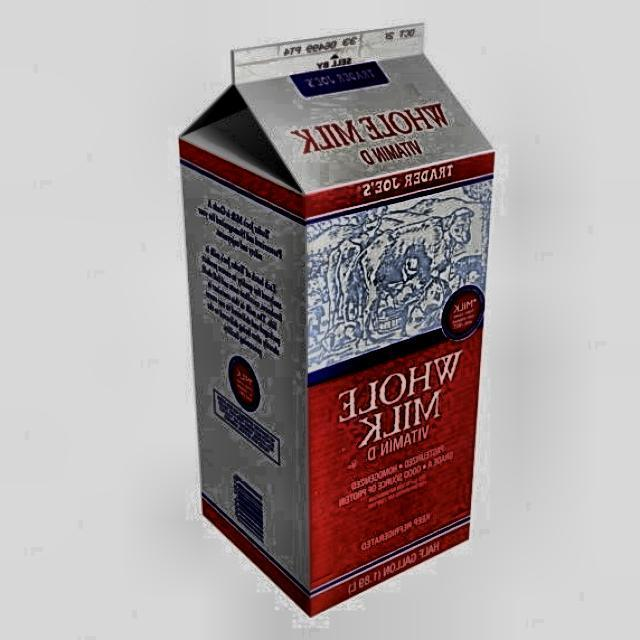cardboard: (178, 24, 497, 616)
